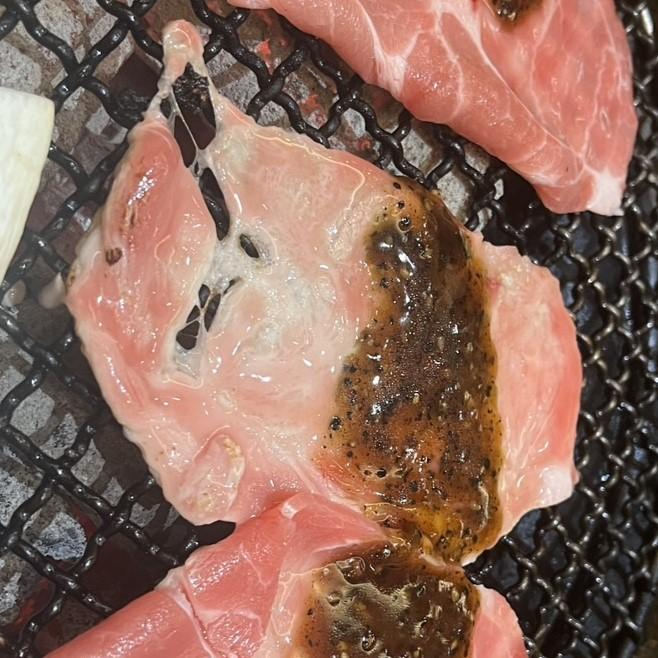Undercooked: (47, 20, 580, 657), (231, 0, 636, 214)
